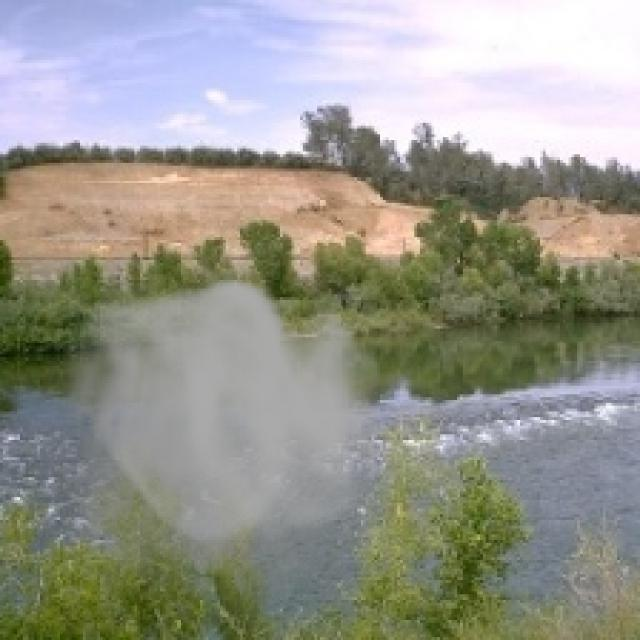Smoke: (42, 272, 388, 637)
